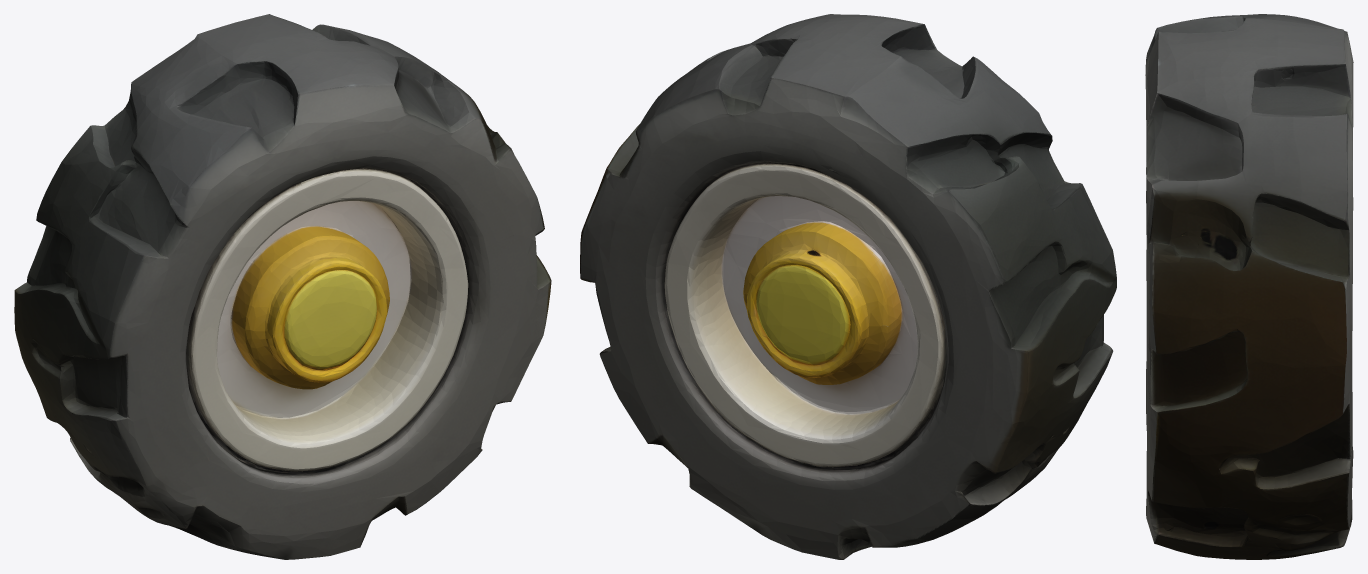
File: tyre.fbx
3 renders of one model, left to right at view 1: azimuth 30°, elevation 25°; view 2: azimuth 150°, elevation 25°; view 3: azimuth 270°, elevation 25°, orthographic. The views are drawn at different scales.
Visible parts, largest first — view 1: geometry_0; view 2: geometry_0; view 3: geometry_0.
Part boxes in pixels (box(x1,y1,x2,y2)): geometry_0: box(14, 14, 551, 559); geometry_0: box(580, 14, 1116, 559); geometry_0: box(1145, 14, 1353, 559).
Size of the model in its own units: 0.9993 by 0.9973 by 0.3825.
1 material, 1 textured.
